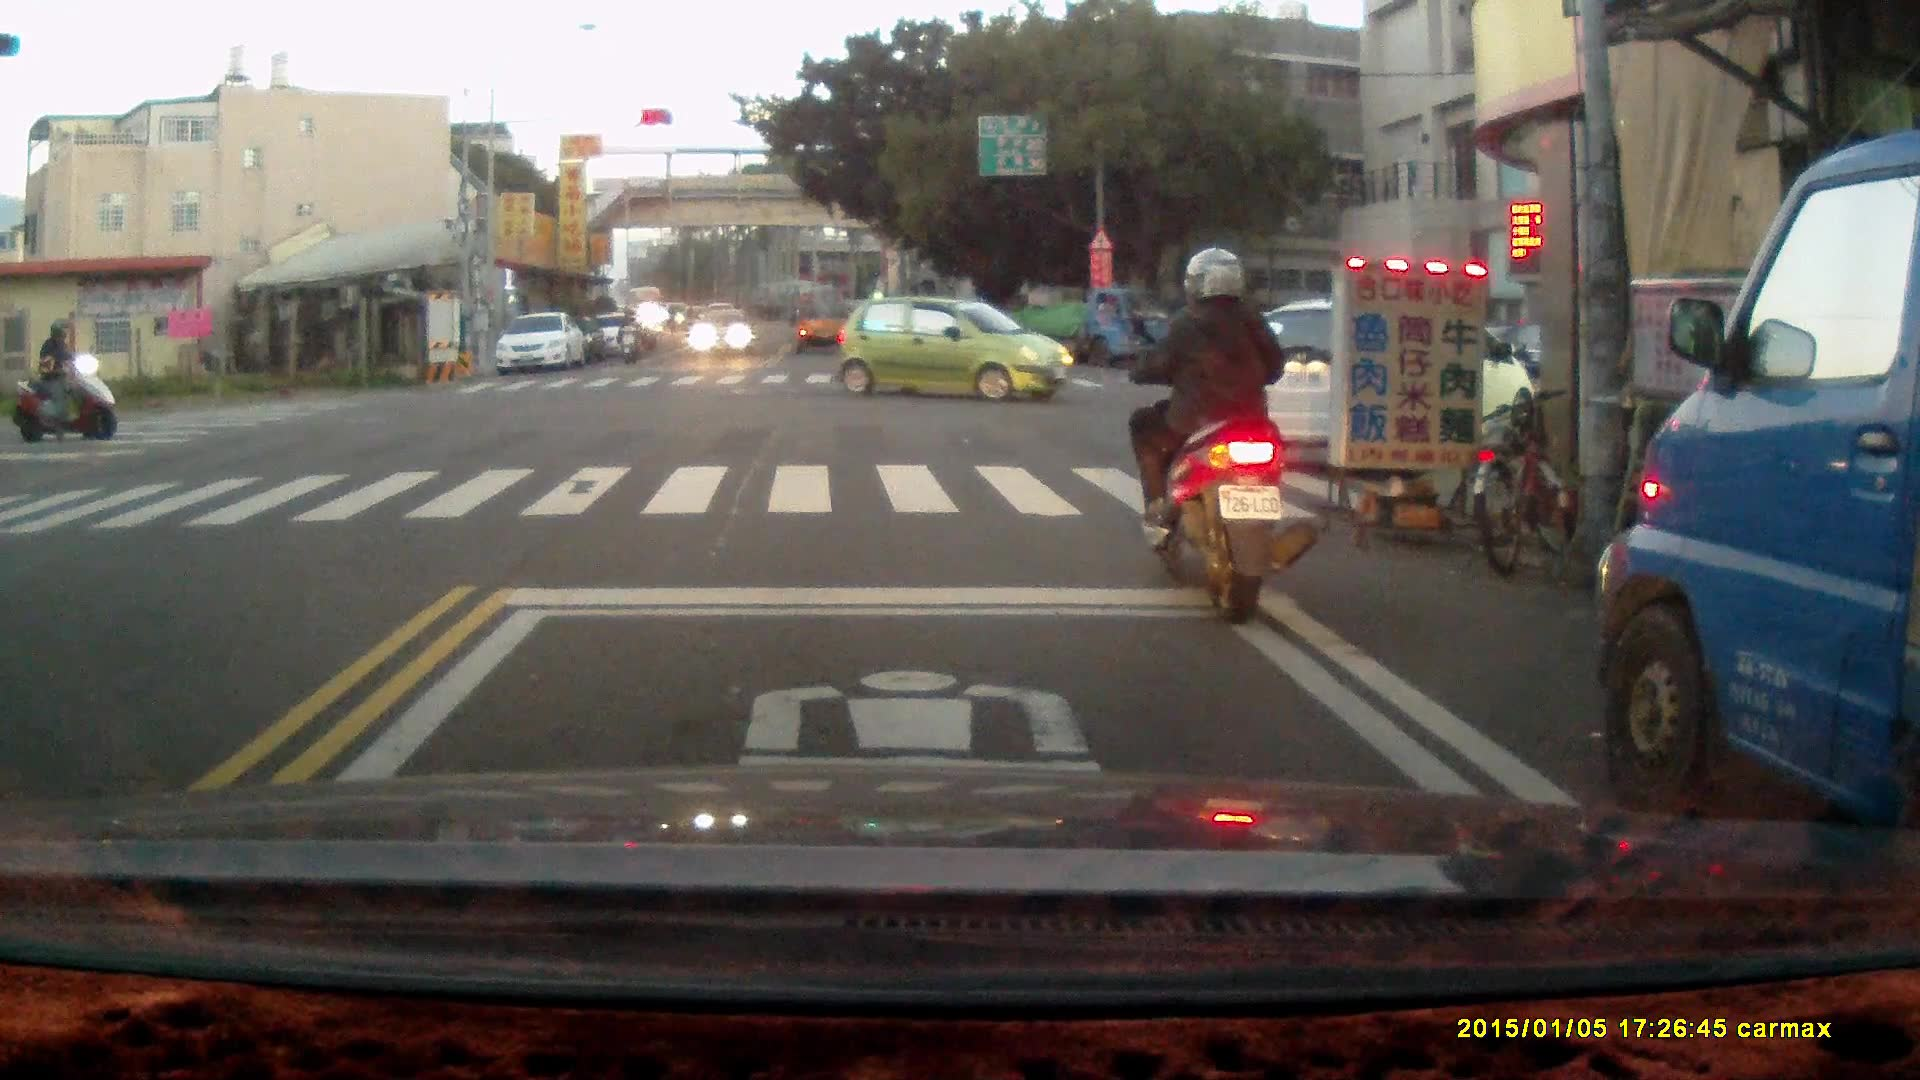rider: (1122, 240, 1327, 624), (11, 319, 119, 441), (616, 305, 645, 365)
vehicle: (1600, 132, 1920, 904), (1229, 295, 1533, 460), (842, 290, 1072, 402), (1002, 284, 1179, 367), (493, 313, 586, 377), (793, 285, 856, 358), (592, 311, 642, 360)
